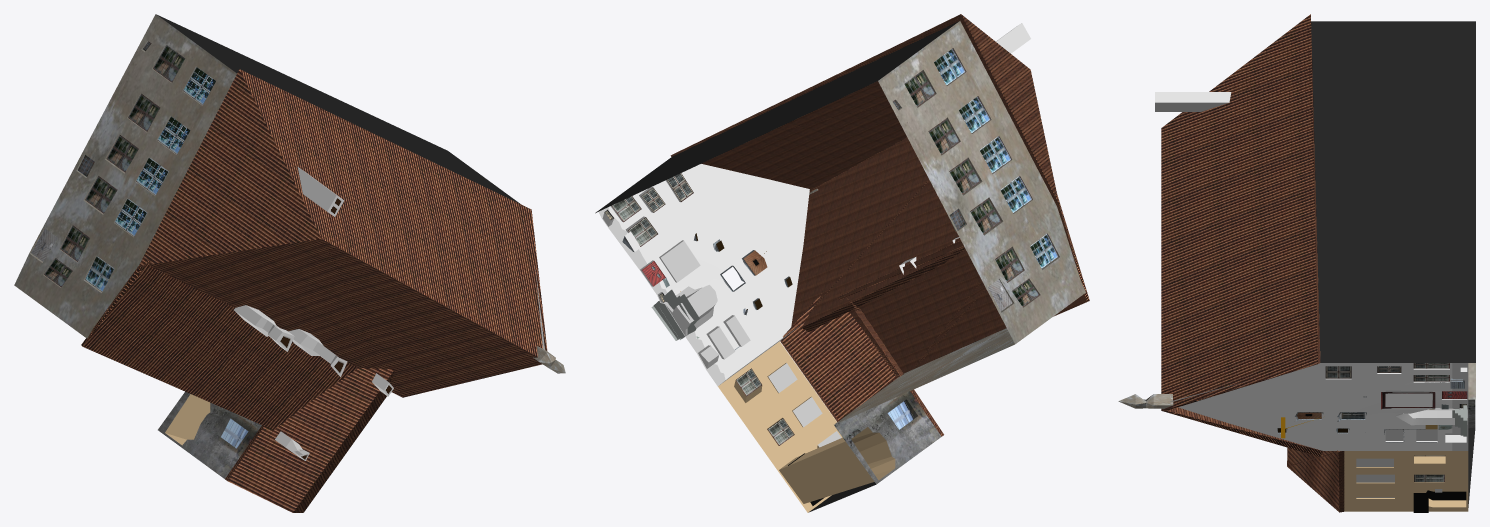
File: Lai-29_ja_Lai-29A-origo.obj
3 renders of one model, left to right at view 1: azimuth 30°, elevation 25°; view 2: azimuth 150°, elevation 25°; view 3: azimuth 270°, elevation 25°, orthographic. The views are drawn at different scales.
Visible parts, largest first — view 1: Lai_29; view 2: Lai_29; view 3: Lai_29.
Part boxes in pixels (<box>): Lai_29: <box>14,14,565,512</box>; Lai_29: <box>595,14,1089,512</box>; Lai_29: <box>1118,14,1475,512</box>.
Size of the model in its own units: 32.12 by 33 by 23.21.
